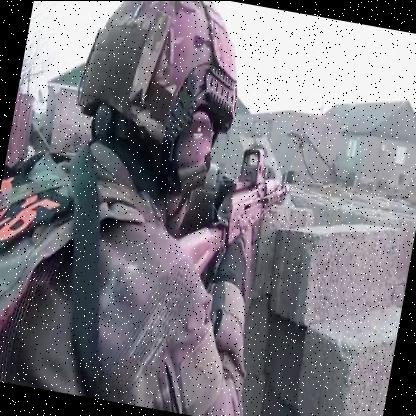rifle: (156, 128, 300, 317)
